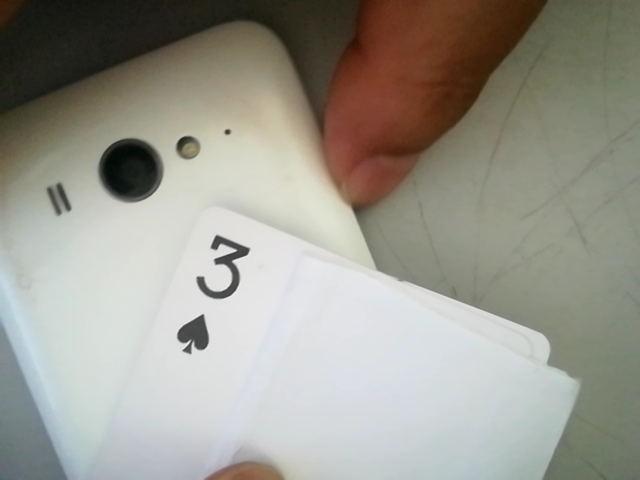ht 3: (173, 224, 264, 360)
